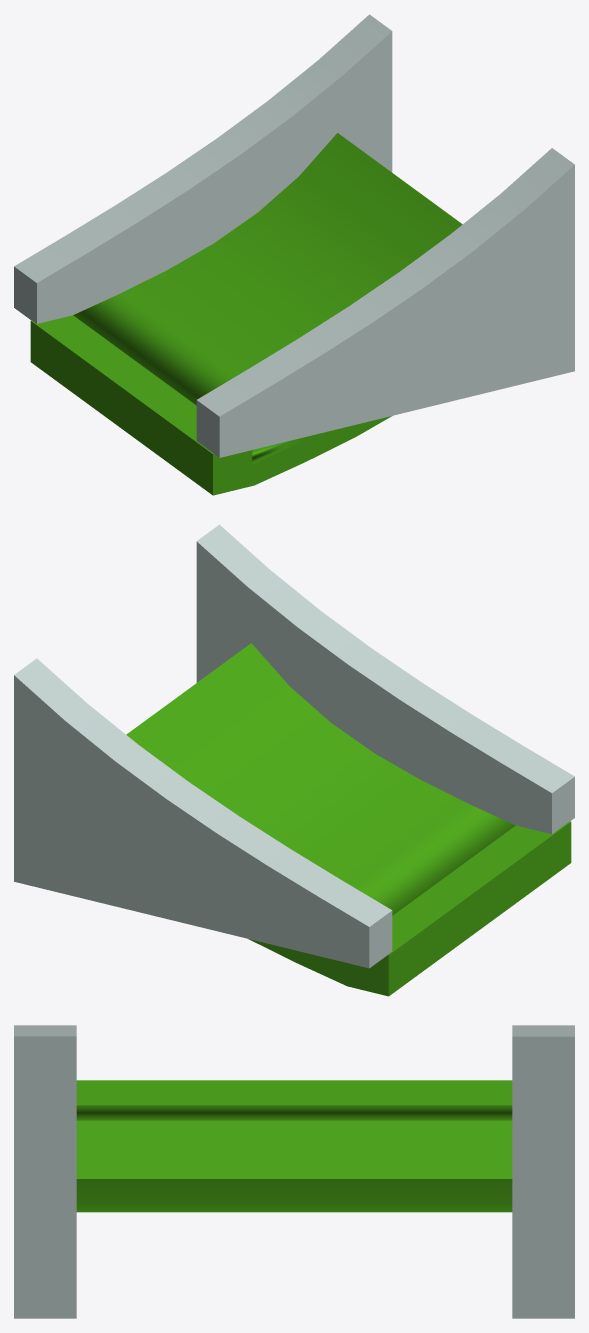
File: Rampa.fbx
The picture shows the model from 3 angles, top to bottom: view 1: azimuth 30°, elevation 25°; view 2: azimuth 150°, elevation 25°; view 3: azimuth 270°, elevation 25°; orthographic projection. The views are drawn at different scales.
Parts seen in each view (by area): view 1: Rampa; view 2: Rampa; view 3: Rampa.
Part boxes in pixels (x1,y1,x2,y2): Rampa: (14, 14, 574, 495); Rampa: (14, 524, 574, 996); Rampa: (14, 1025, 574, 1318).
Size of the model in its own units: 90.34 by 59.92 by 90.11.
1 material, 1 textured.
